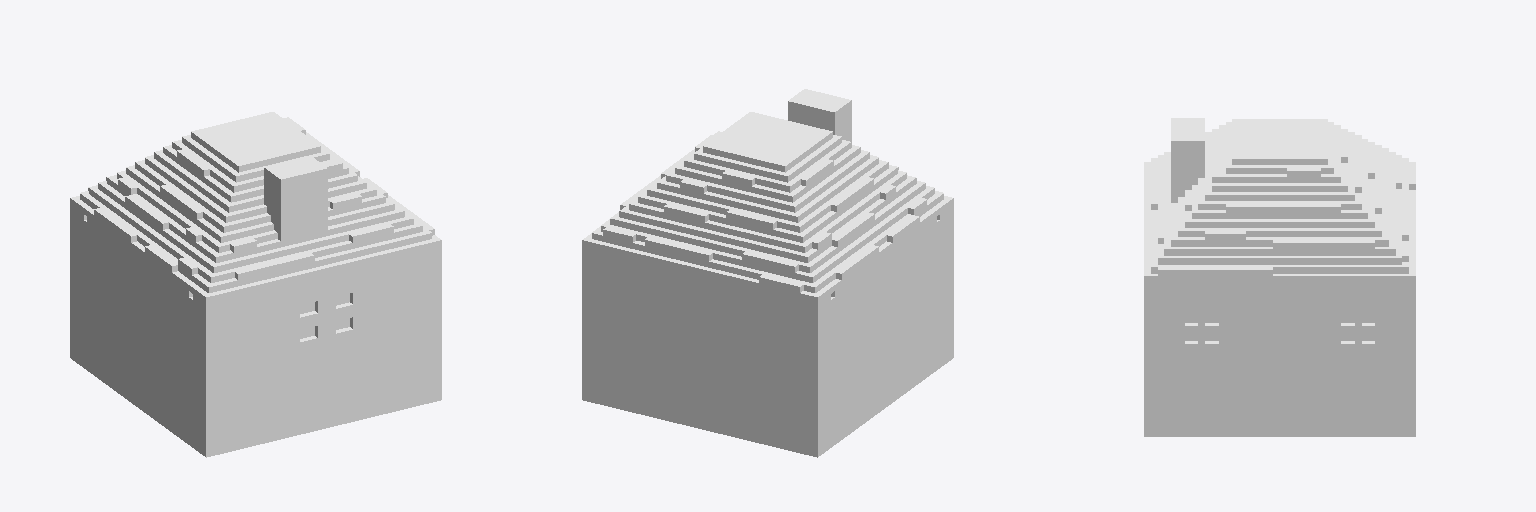
The model's file is house-0.obj.
3 views of the same model, side by side, from view 1: azimuth 30°, elevation 25°; view 2: azimuth 150°, elevation 25°; view 3: azimuth 270°, elevation 25° (orthographic).
Visible parts, largest first — view 1: house-0; view 2: house-0; view 3: house-0.
Part boxes in pixels (x1,y1,x2,y2): house-0: (70,112,441,457); house-0: (582,89,953,457); house-0: (1144,118,1415,436).
Bounding box in the file's own units: 40 × 40 × 40.